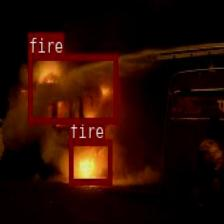fire: (28, 54, 117, 122), (68, 138, 112, 183)
